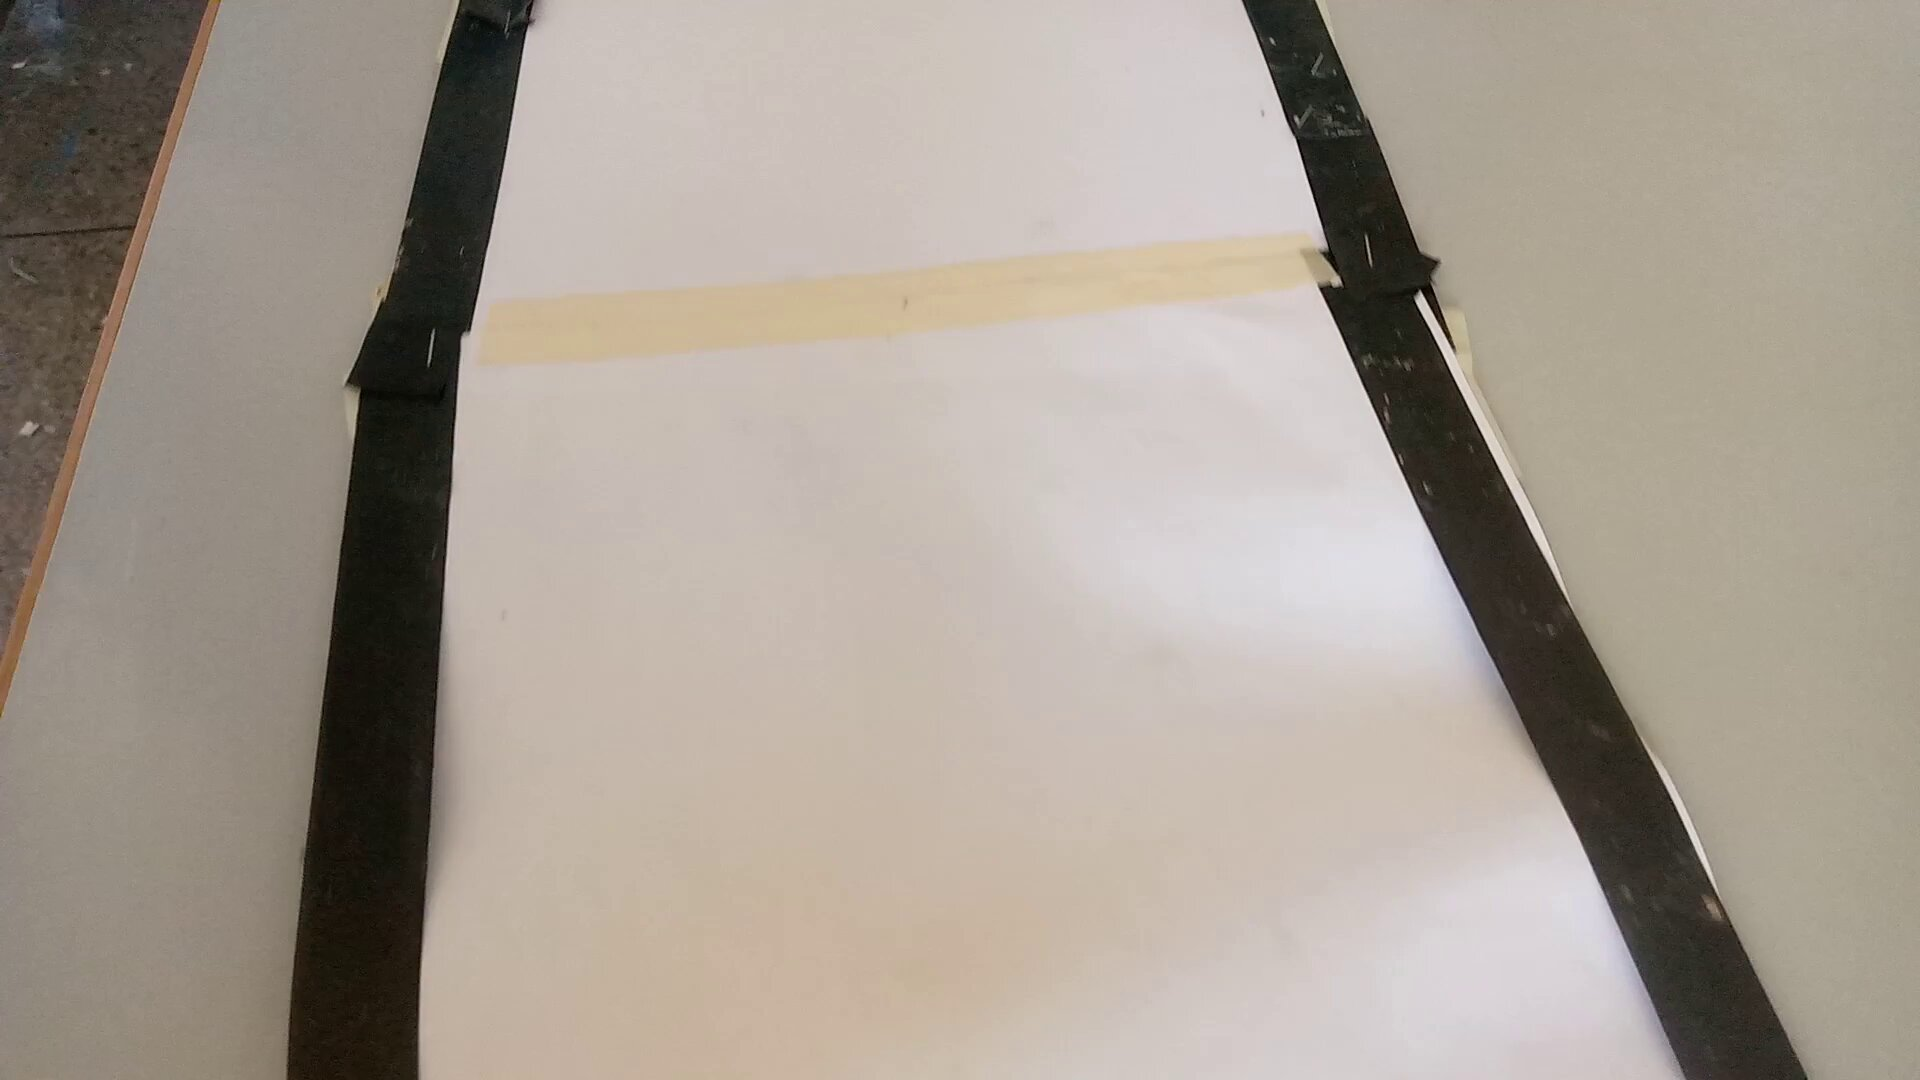right: (349, 109, 1658, 615)
